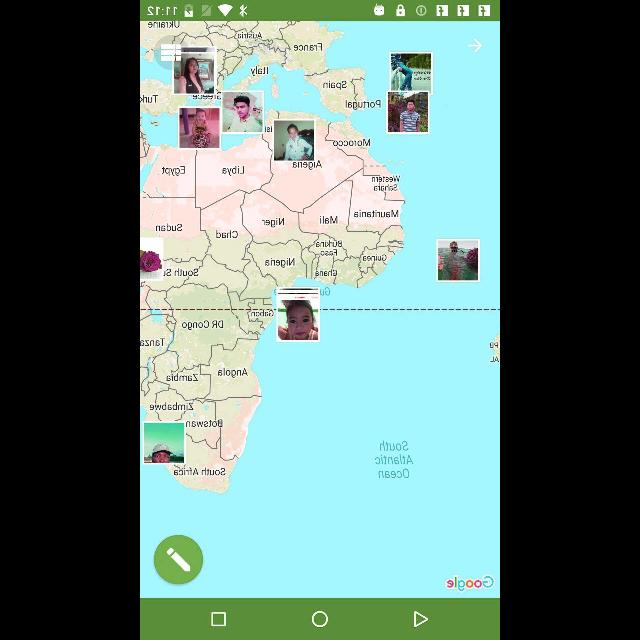button: (153, 536, 203, 584)
icon: (310, 611, 330, 629), (412, 610, 428, 630), (468, 37, 482, 54), (210, 613, 226, 627)
map: (140, 22, 500, 600)
panel: (141, 600, 499, 640)
uppertaskbar: (140, 1, 500, 20)
